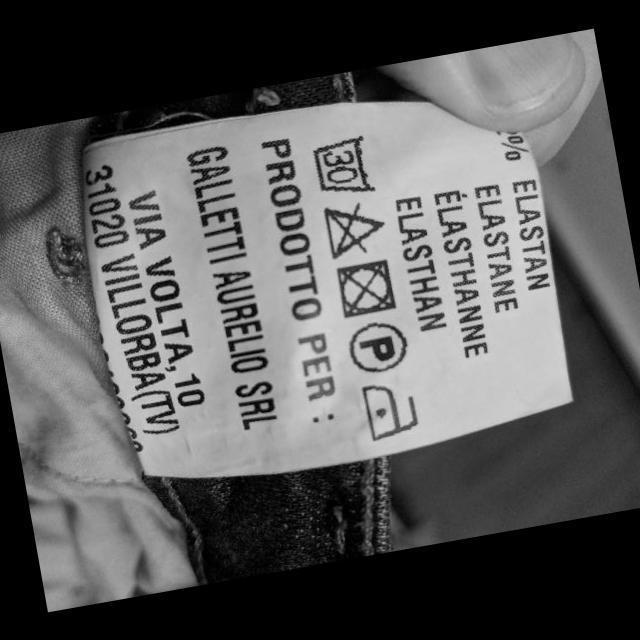30C: (306, 128, 378, 206)
DN_bleach: (313, 192, 392, 266)
DN_tumble_dry: (329, 252, 399, 322)
iron_low: (354, 372, 423, 447)
normal_dry_clean_solvents: (339, 309, 414, 384)
